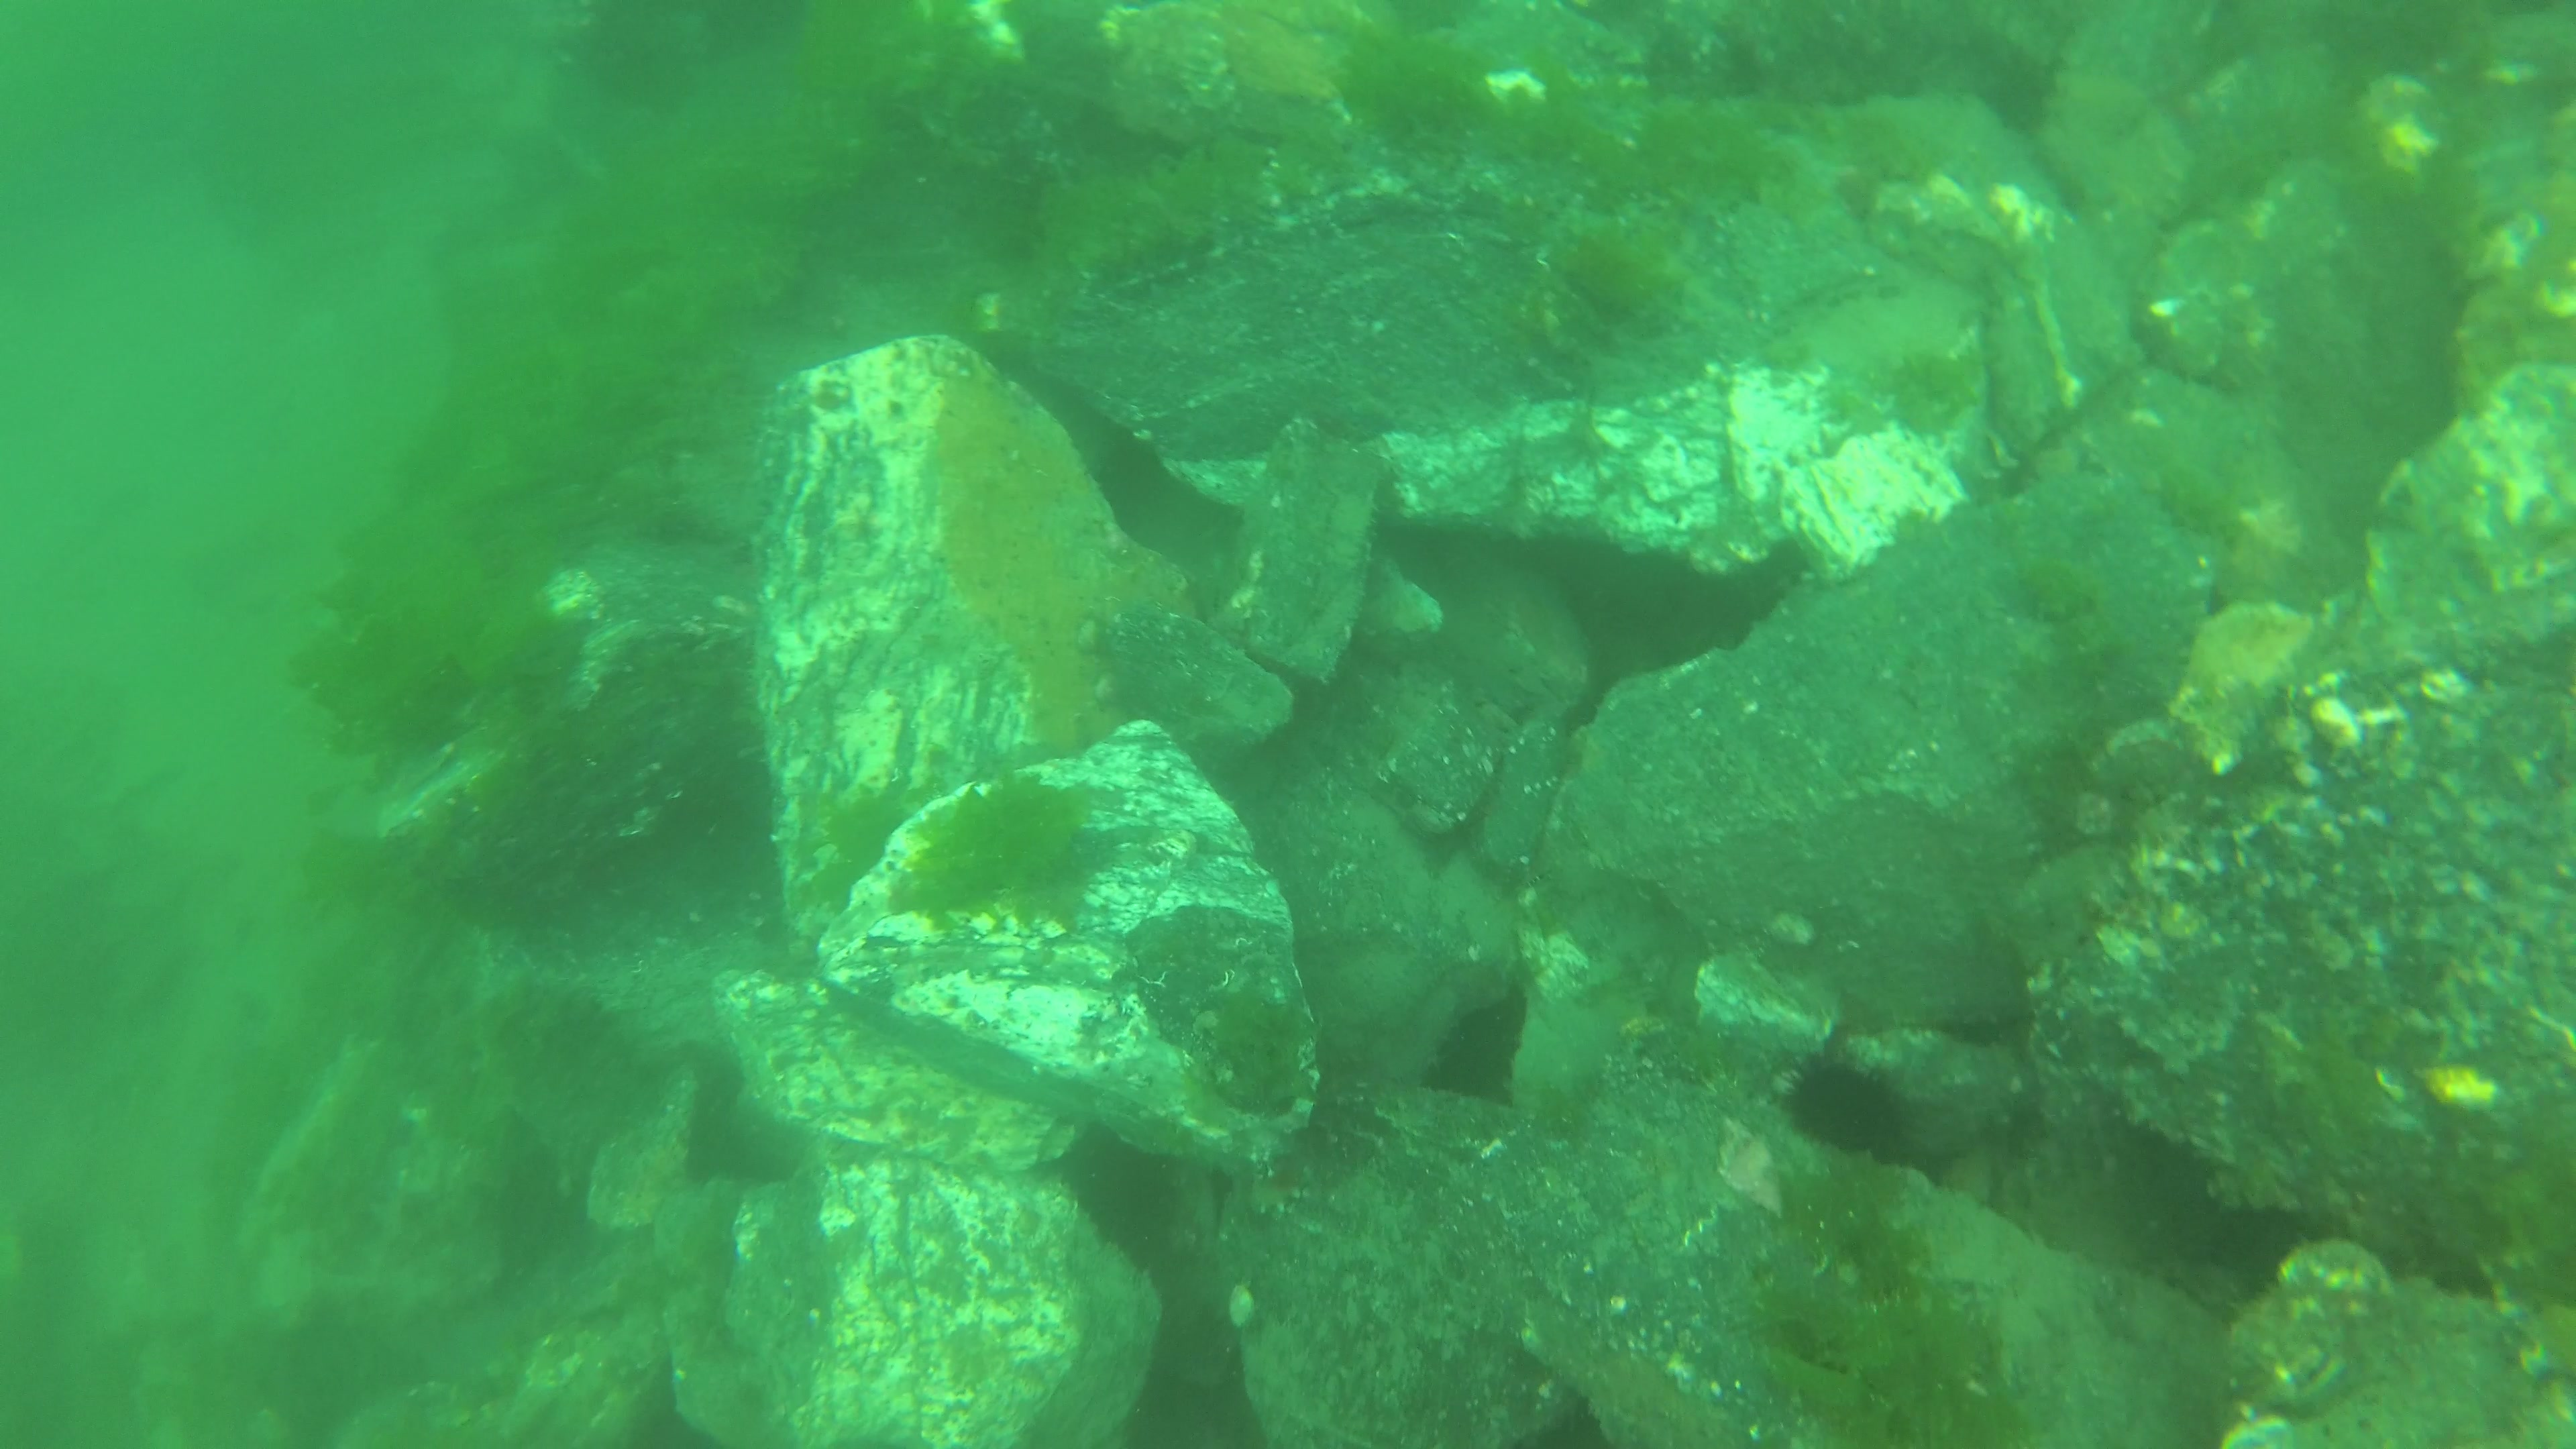echinus: (1782, 1047, 1920, 1173)
